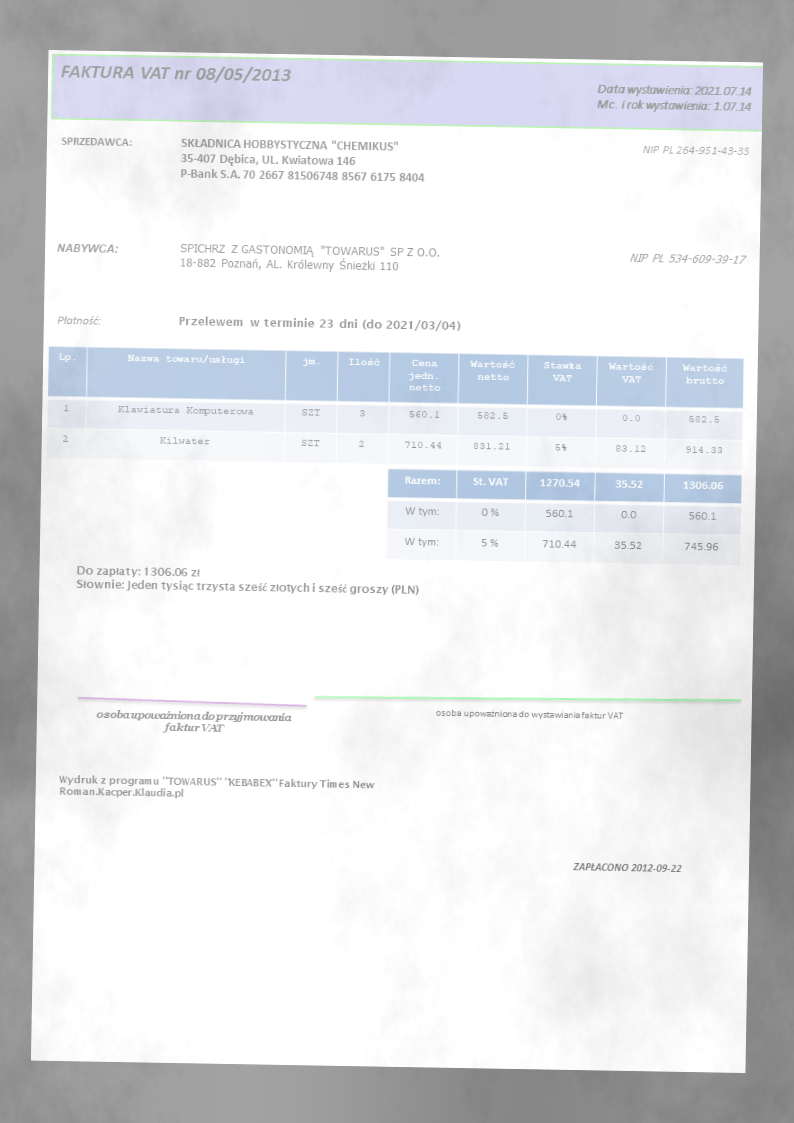Table: (44, 345, 744, 472), (385, 467, 743, 565)
TextBox: (178, 134, 428, 185), (74, 564, 421, 598), (56, 772, 376, 805), (177, 240, 443, 274), (177, 313, 462, 334), (58, 62, 293, 87), (95, 707, 294, 735), (594, 81, 754, 115), (434, 707, 624, 723), (571, 858, 683, 877), (628, 251, 747, 267), (641, 142, 750, 158), (59, 134, 134, 150), (55, 240, 120, 256), (55, 313, 102, 327)
